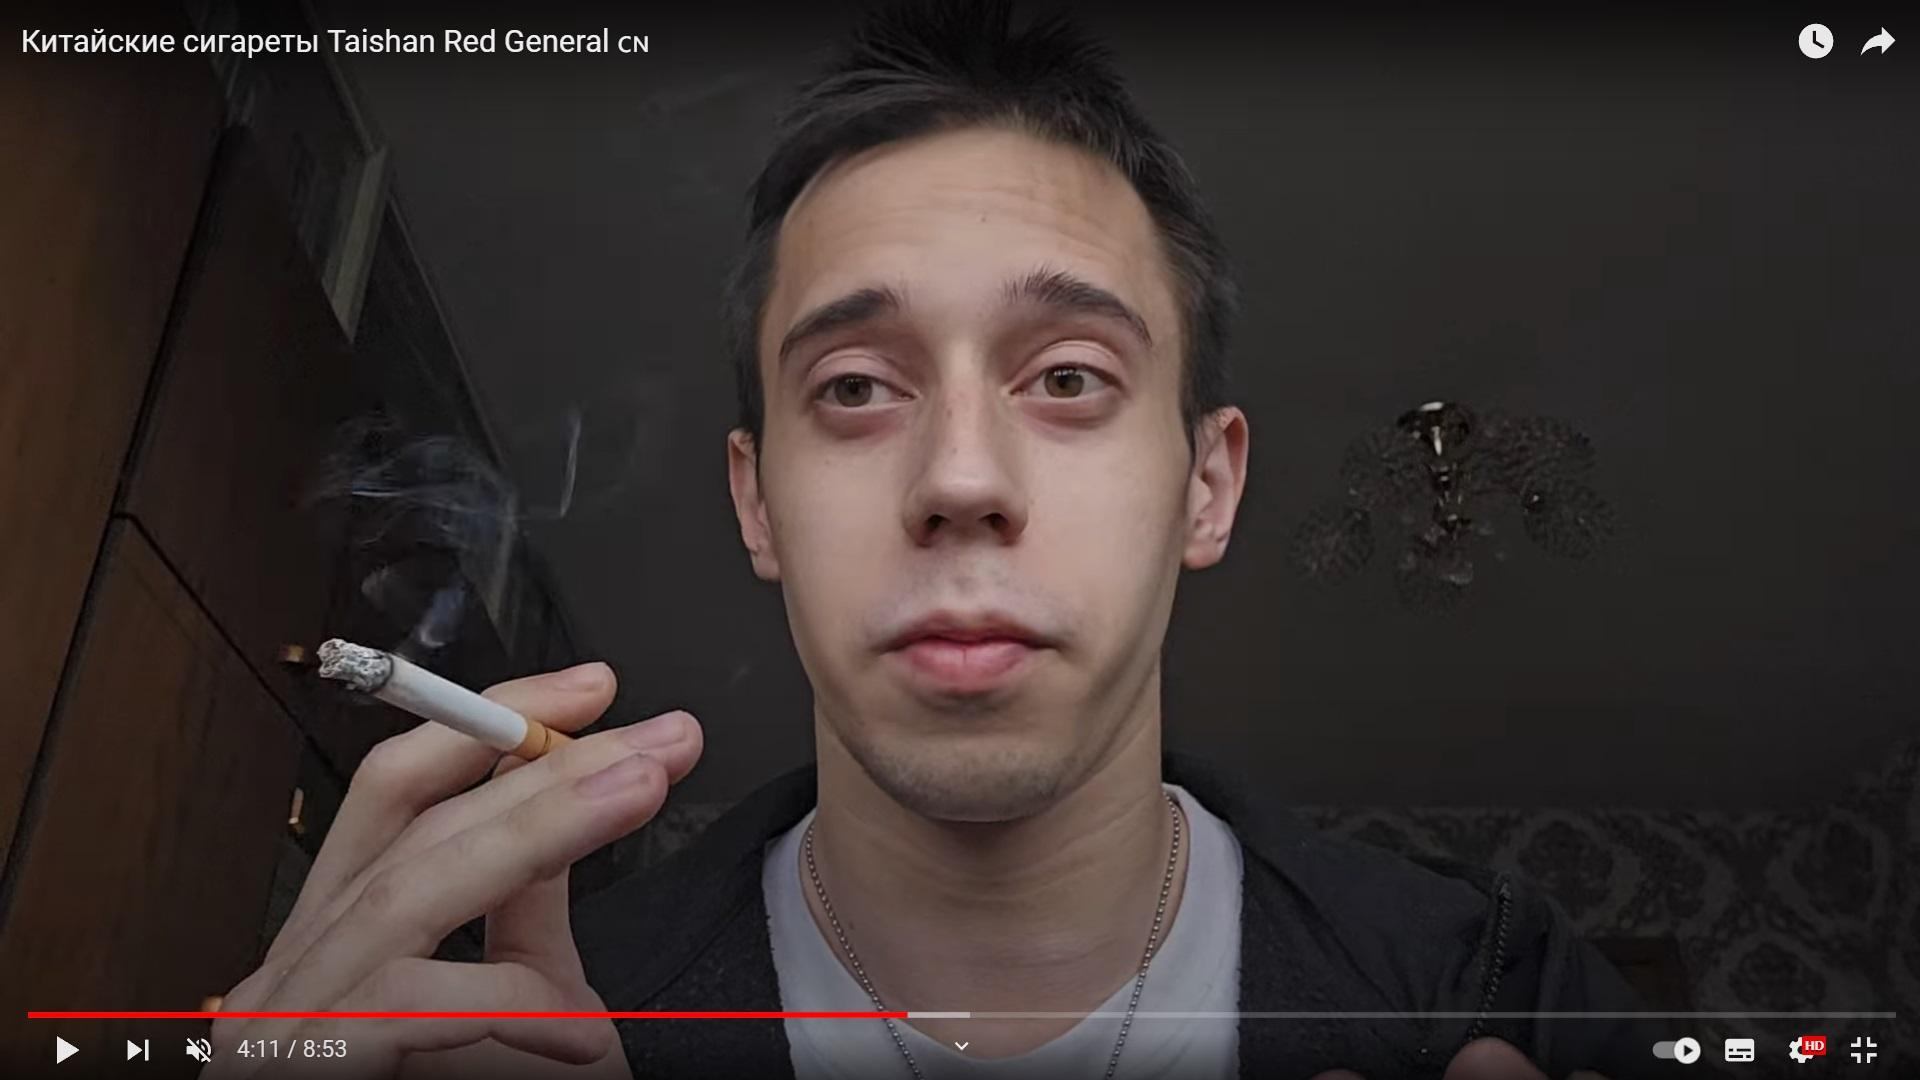cigarette: (319, 637, 570, 761)
